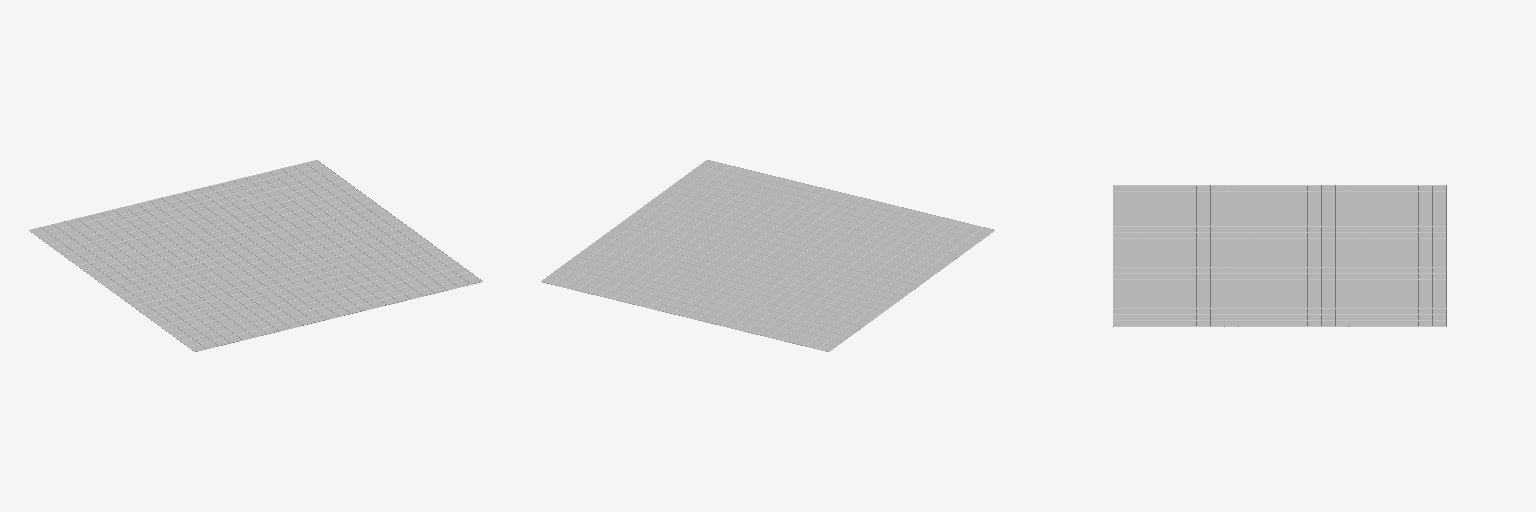
Rendered from imperial grid.obj.
3 renders of one model, left to right at view 1: azimuth 30°, elevation 25°; view 2: azimuth 150°, elevation 25°; view 3: azimuth 270°, elevation 25°, orthographic.
Parts seen in each view (by area): view 1: Grid; view 2: Grid; view 3: Grid.
Part boxes in pixels (left/top/right/bottom): Grid: left=29, top=160, right=482, bottom=351; Grid: left=541, top=160, right=994, bottom=351; Grid: left=1113, top=185, right=1446, bottom=326.
Bounding box in the file's own units: 50 × 0.1 × 50.